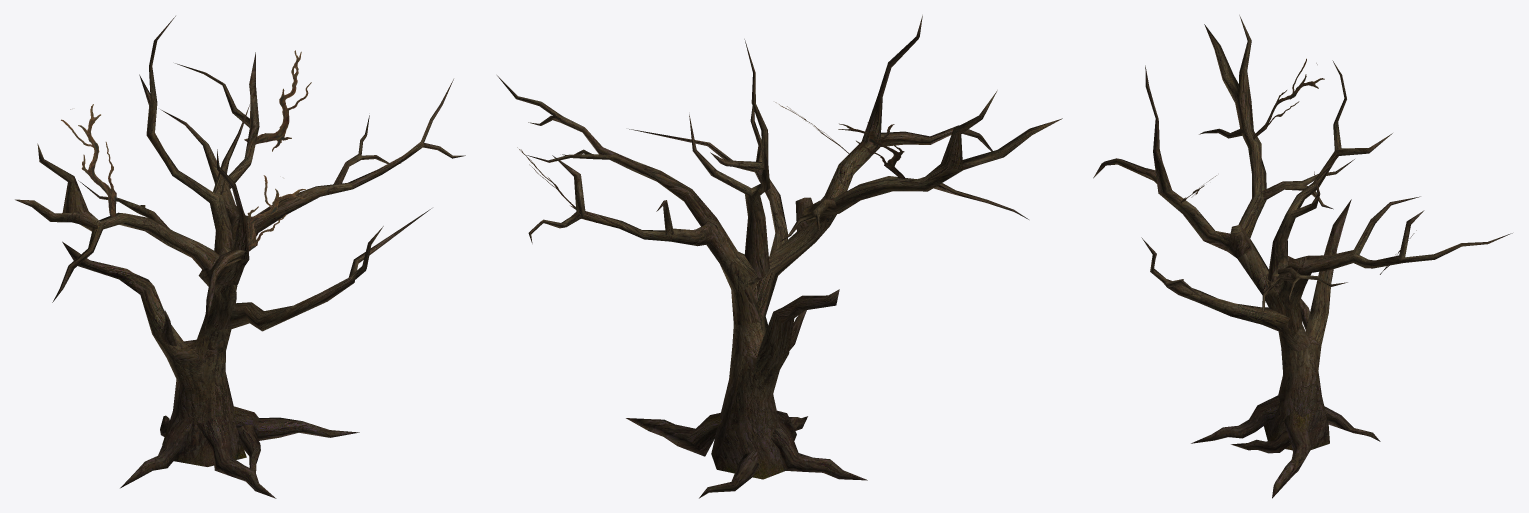
The model's file is yw_huxiaoshamo_kushu01.FBX.
The picture shows the model from 3 angles, left to right: view 1: azimuth 30°, elevation 25°; view 2: azimuth 150°, elevation 25°; view 3: azimuth 270°, elevation 25°; orthographic projection. The views are drawn at different scales.
Visible parts, largest first — view 1: yw_huxiaoshamo_kushu01; view 2: yw_huxiaoshamo_kushu01; view 3: yw_huxiaoshamo_kushu01.
Boxes of the visible parts, left/top/right/bottom form: yw_huxiaoshamo_kushu01: left=15, top=16, right=465, bottom=498; yw_huxiaoshamo_kushu01: left=497, top=15, right=1062, bottom=498; yw_huxiaoshamo_kushu01: left=1093, top=15, right=1512, bottom=498.
Size of the model in its own units: 1318 by 1098 by 1111.
